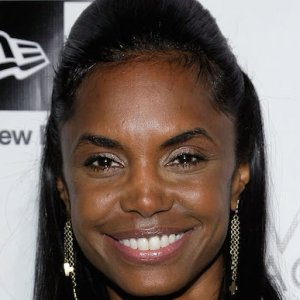shoot: (98, 228, 204, 262)
